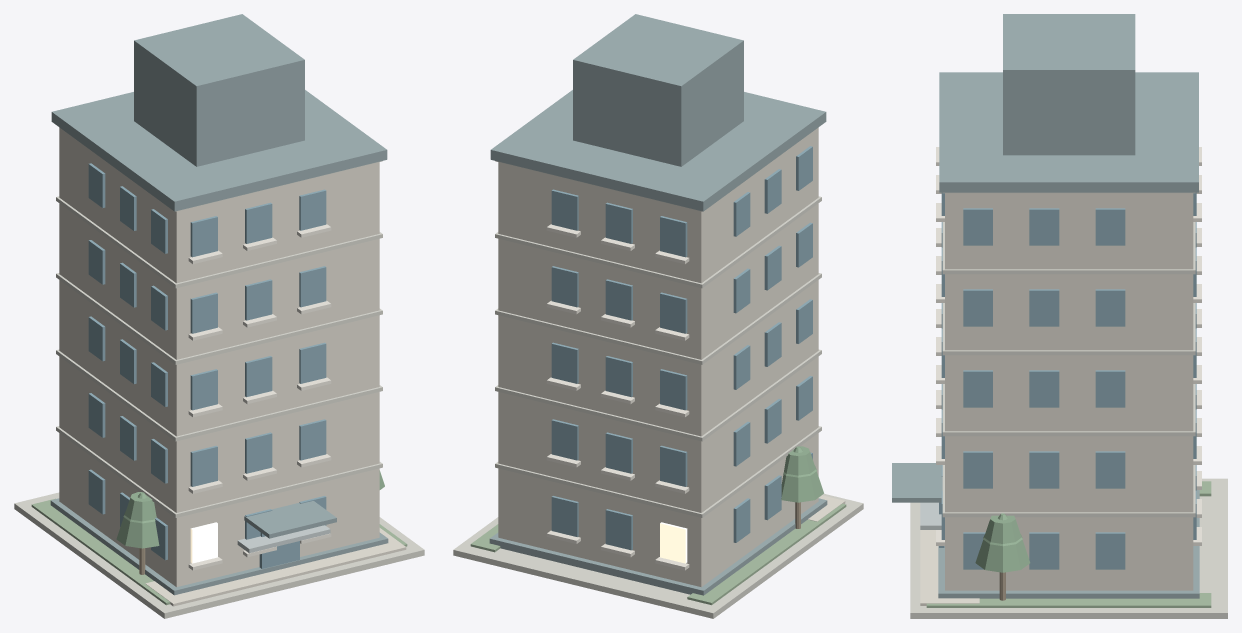
Rendered from remaster_office_10.glb.
3 views of the same model, side by side, from view 1: azimuth 30°, elevation 25°; view 2: azimuth 150°, elevation 25°; view 3: azimuth 270°, elevation 25° (orthographic). The views are drawn at different scales.
Visible parts, largest first — view 1: remaster_office_10 cream, remaster_office_10 roof, remaster_office_10 glass, remaster_office_10 stone, remaster_office_10 white, remaster_office_10 green, remaster_office_10 leaf, remaster_office_10 metal, remaster_office_10 warm; view 2: remaster_office_10 cream, remaster_office_10 roof, remaster_office_10 glass, remaster_office_10 stone, remaster_office_10 white, remaster_office_10 green, remaster_office_10 leaf, remaster_office_10 warm; view 3: remaster_office_10 cream, remaster_office_10 roof, remaster_office_10 glass, remaster_office_10 stone, remaster_office_10 white, remaster_office_10 green, remaster_office_10 leaf, remaster_office_10 metal.
Part boxes in pixels (x1,y1,x2,y2): remaster_office_10 cream: [59, 127, 406, 606]; remaster_office_10 roof: [50, 14, 388, 595]; remaster_office_10 glass: [88, 163, 326, 568]; remaster_office_10 stone: [14, 161, 424, 618]; remaster_office_10 white: [188, 224, 331, 570]; remaster_office_10 green: [31, 498, 407, 605]; remaster_office_10 leaf: [116, 470, 384, 548]; remaster_office_10 metal: [237, 525, 330, 553]; remaster_office_10 warm: [190, 522, 217, 563]; remaster_office_10 cream: [498, 127, 845, 587]; remaster_office_10 roof: [489, 14, 827, 595]; remaster_office_10 glass: [551, 146, 812, 550]; remaster_office_10 stone: [453, 161, 863, 618]; remaster_office_10 white: [546, 224, 689, 570]; remaster_office_10 green: [470, 503, 846, 605]; remaster_office_10 leaf: [781, 446, 823, 502]; remaster_office_10 warm: [660, 522, 687, 563]; remaster_office_10 cream: [920, 193, 1193, 605]; remaster_office_10 roof: [892, 14, 1199, 598]; remaster_office_10 glass: [939, 192, 1196, 569]; remaster_office_10 stone: [910, 192, 1227, 618]; remaster_office_10 white: [936, 147, 1201, 545]; remaster_office_10 green: [926, 481, 1211, 607]; remaster_office_10 leaf: [975, 513, 1030, 572]; remaster_office_10 metal: [920, 502, 941, 529].
Size of the model in its own units: 9.64 by 17 by 10.15.
